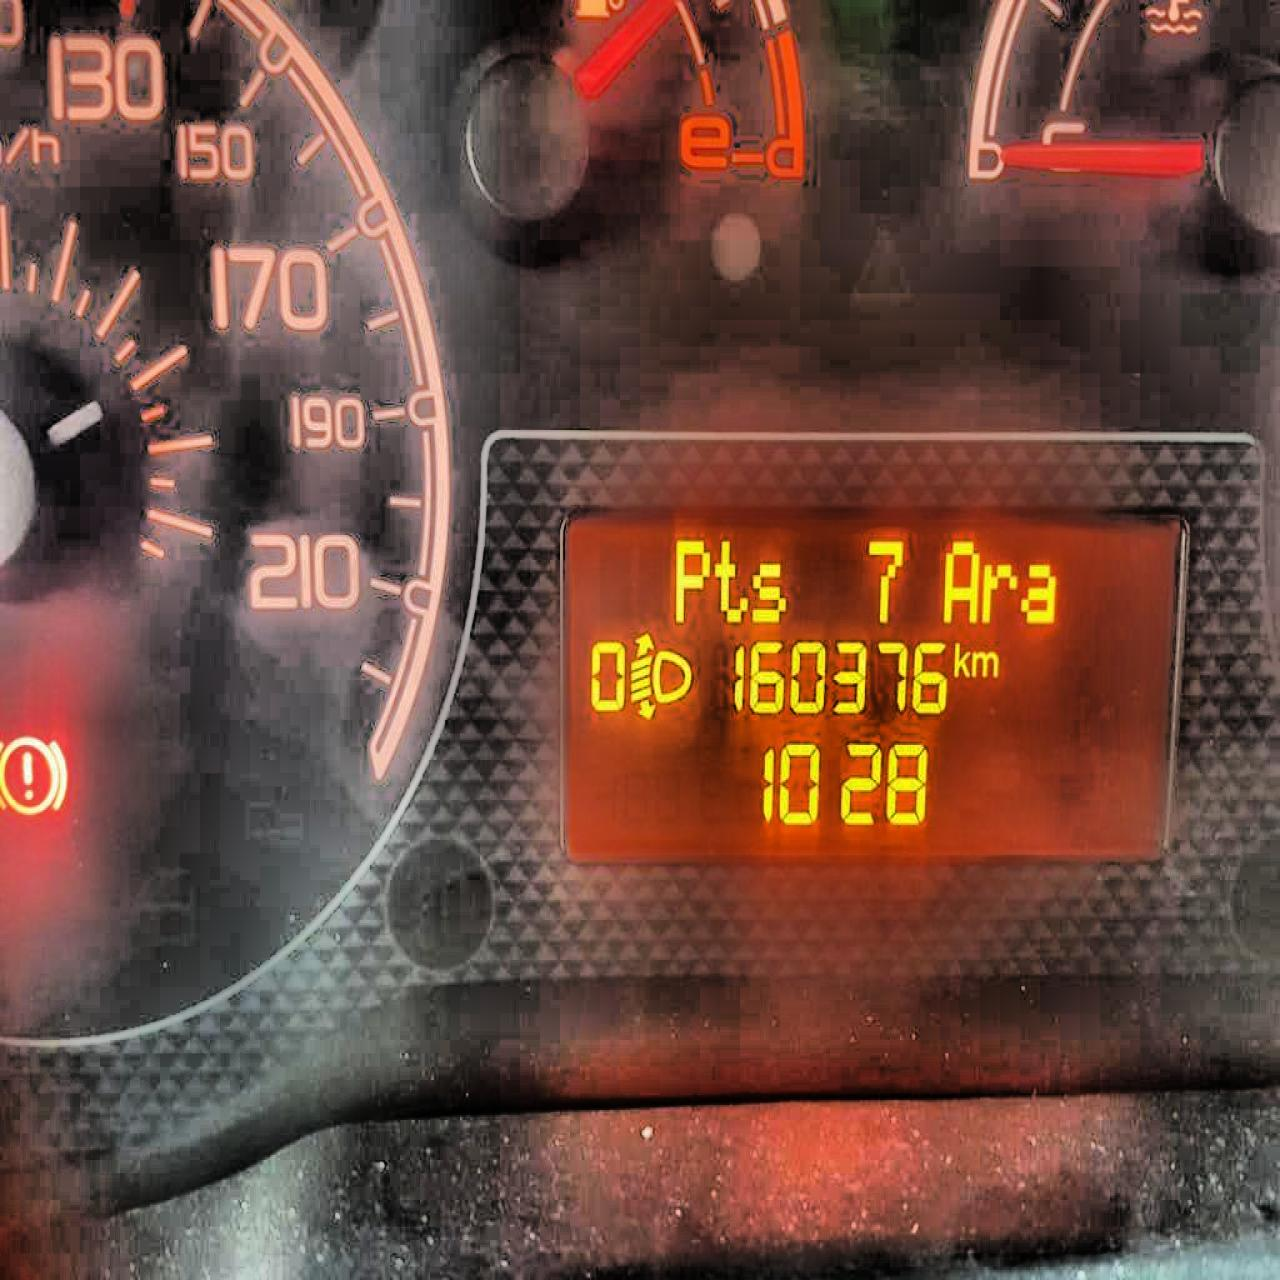0: (775, 737, 821, 829), (787, 635, 830, 716), (586, 633, 627, 716)
1: (723, 639, 748, 714), (754, 740, 772, 823)
2: (838, 737, 880, 829)
3: (831, 635, 870, 715)
6: (910, 639, 949, 715), (750, 635, 782, 715)
7: (863, 533, 906, 628), (874, 635, 908, 715)
8: (884, 736, 930, 826)
X: (667, 531, 713, 626), (938, 533, 976, 625), (714, 535, 748, 625), (1016, 558, 1060, 627), (749, 556, 788, 627), (979, 557, 1017, 625), (971, 648, 1001, 682), (951, 639, 971, 682)
odometer: (550, 492, 1198, 873)
